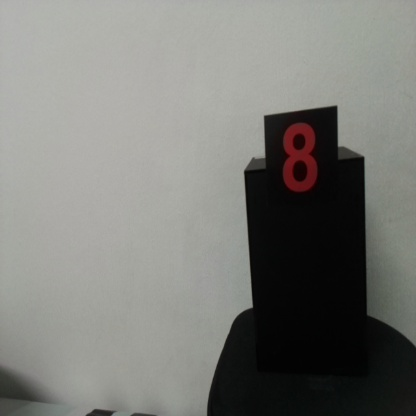id_8: (265, 115, 339, 220)
